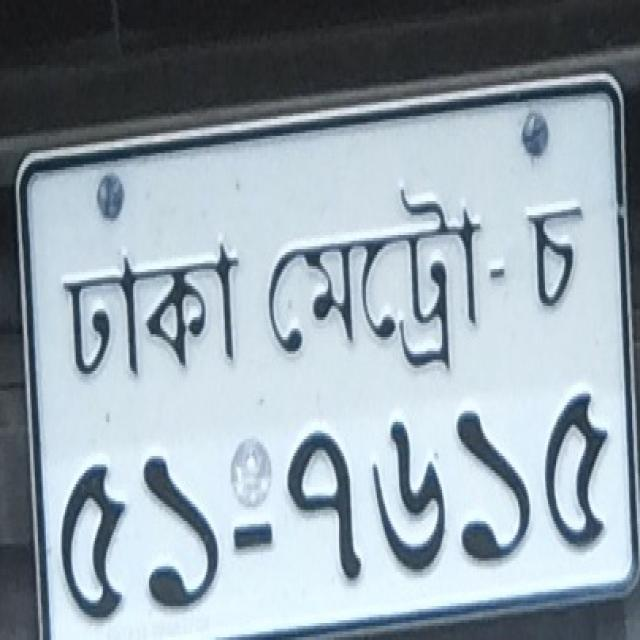numberplate: (12, 66, 637, 637)
